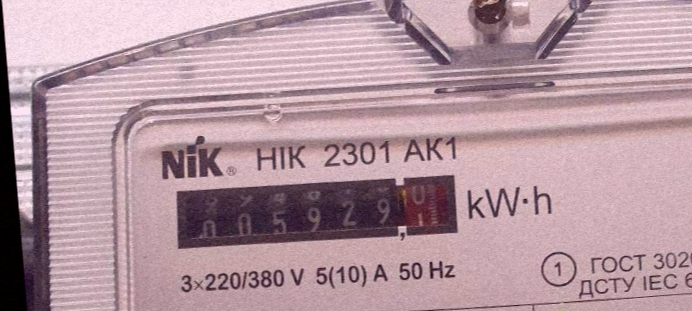0: (233, 208, 254, 237), (196, 213, 219, 237), (407, 181, 428, 205)
2: (336, 194, 358, 229)
5: (268, 205, 288, 234)
9: (300, 201, 324, 233), (372, 192, 394, 226), (199, 193, 219, 212)
screen: (166, 161, 466, 264)
